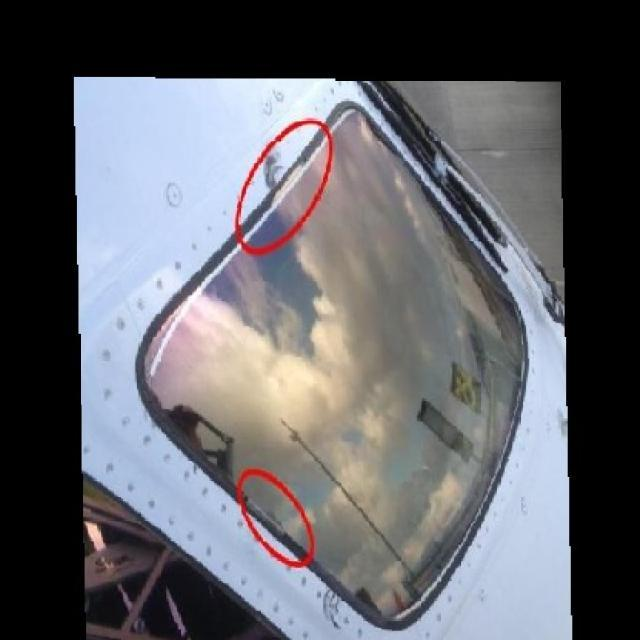crack: (324, 592, 343, 634)
